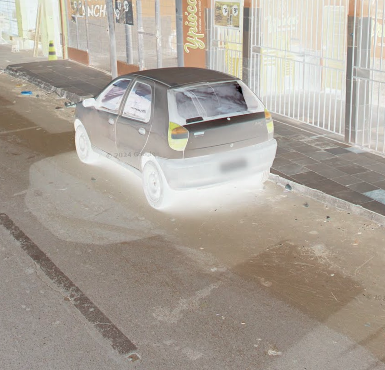car: (71, 63, 279, 214)
